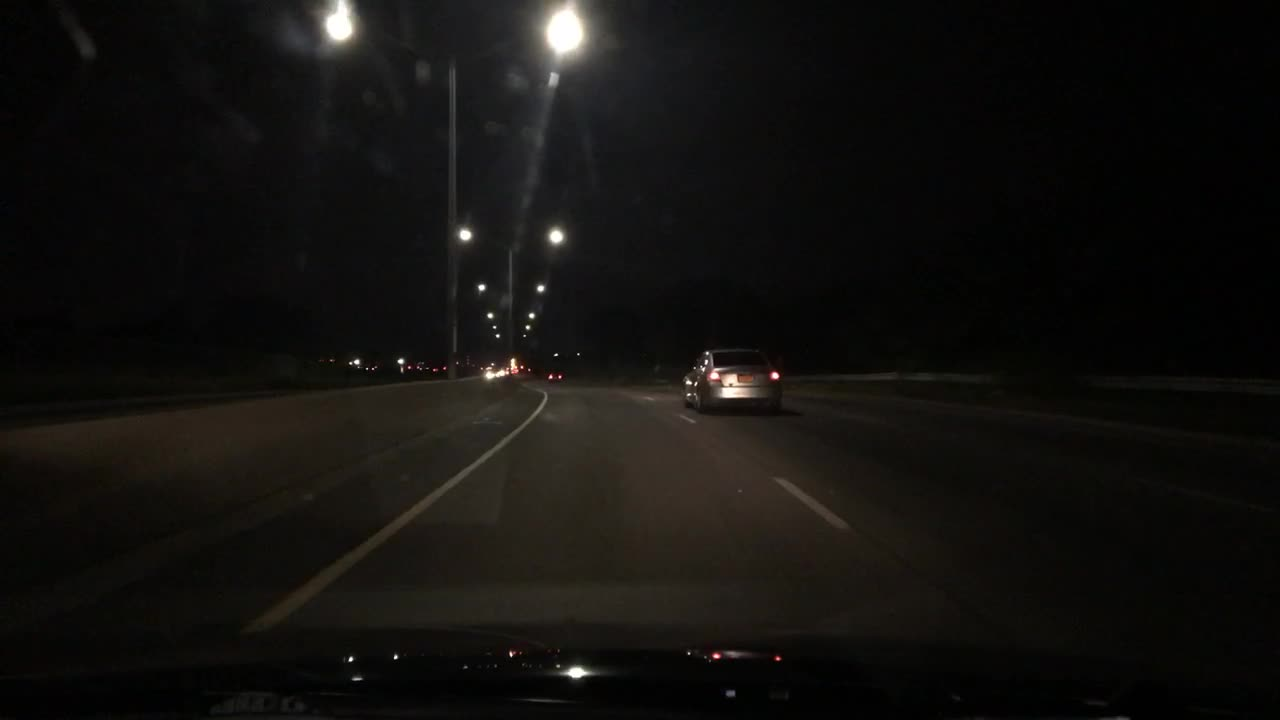car: (677, 344, 788, 418), (545, 368, 563, 383), (485, 365, 504, 379), (504, 366, 510, 376)
